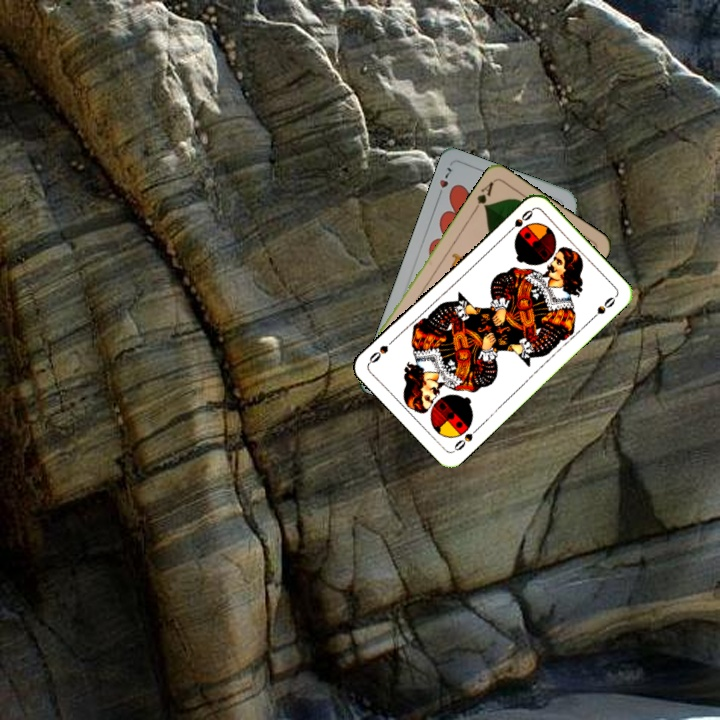GA: (470, 177, 496, 214)
H7: (433, 163, 454, 201)
SO: (449, 422, 482, 454), (503, 205, 535, 237)
